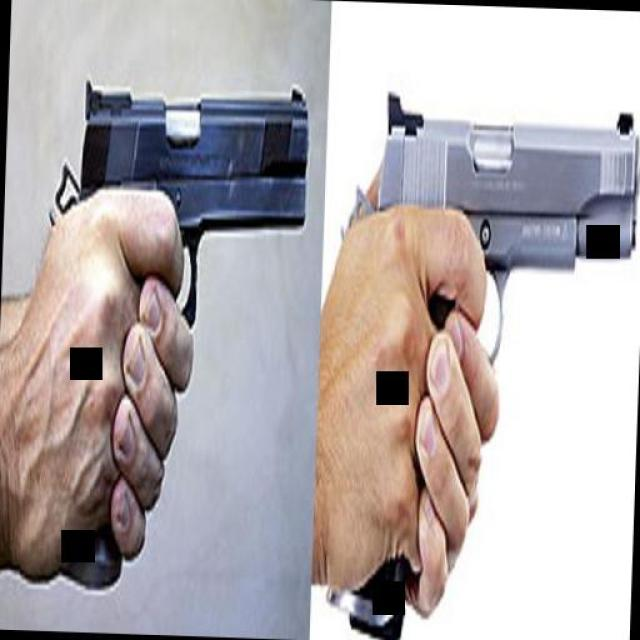gun: (320, 71, 640, 619), (39, 40, 309, 595)
